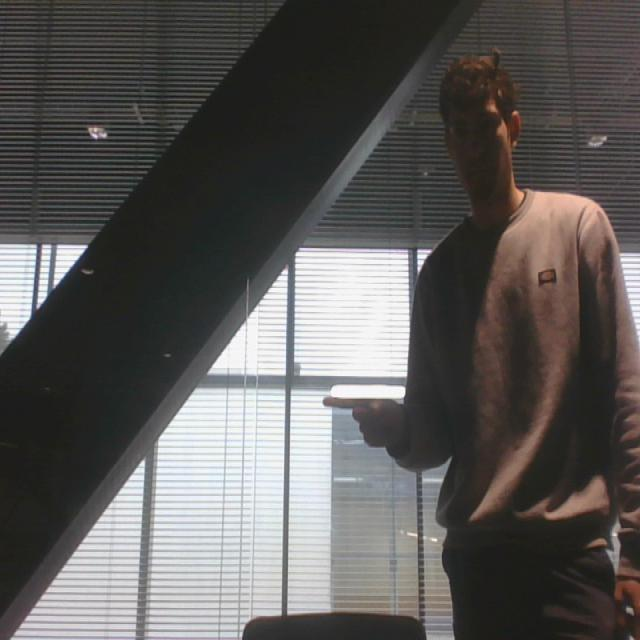left: (318, 377, 414, 467)
